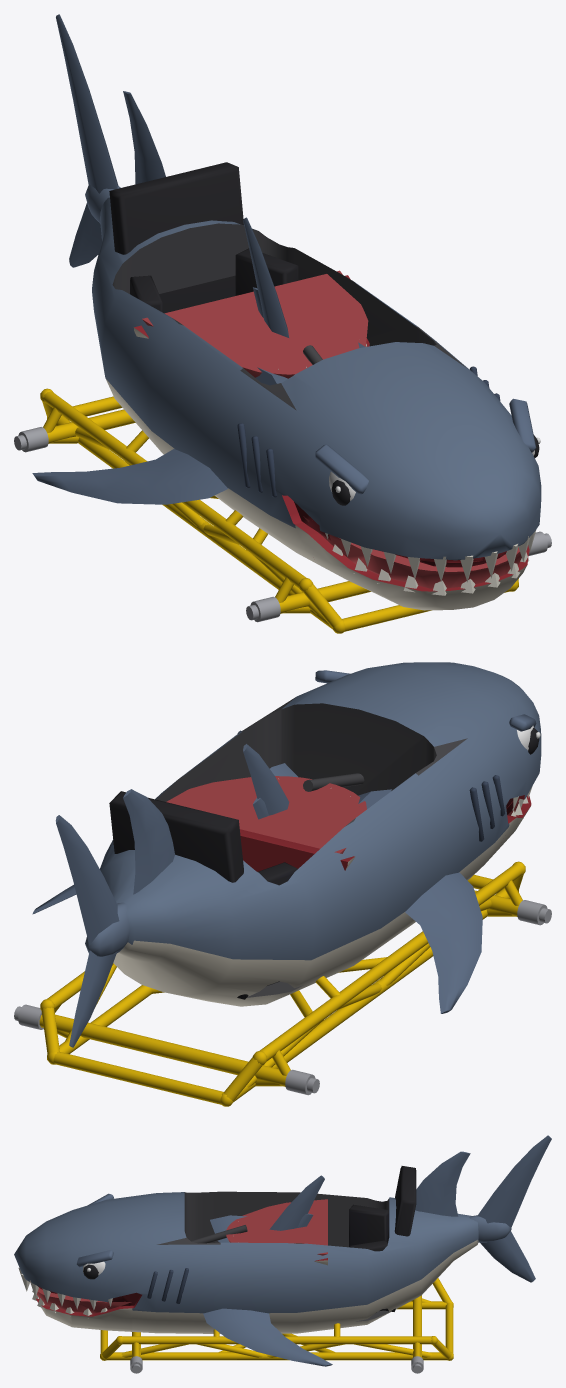
The model's file is sharkkart.glb.
The picture shows the model from 3 angles, top to bottom: view 1: azimuth 30°, elevation 25°; view 2: azimuth 150°, elevation 25°; view 3: azimuth 270°, elevation 25°; orthographic projection. The views are drawn at different scales.
Parts seen in each view (by area): view 1: sharkkart, sharkkart_jaw_loose, sharkkart_wreck, sharkkart_jaw, sharkkart_fin_r, sharkkart_tail, sharkkart_tail_loose, sharkkart_dorsal; view 2: sharkkart, sharkkart_wreck, sharkkart_jaw_loose, sharkkart_tail, sharkkart_fin_r, sharkkart_dorsal, sharkkart_tail_loose, sharkkart_jaw; view 3: sharkkart, sharkkart_wreck, sharkkart_tail, sharkkart_fin_l, sharkkart_jaw_loose, sharkkart_jaw, sharkkart_dorsal, sharkkart_tail_loose, sharkkart_fin_l_loose.
Boxes of the visible parts, x1=… form: sharkkart: x1=14, y1=162, x2=551, y2=632; sharkkart_jaw_loose: x1=133, y1=270, x2=369, y2=378; sharkkart_wreck: x1=14, y1=294, x2=550, y2=633; sharkkart_jaw: x1=295, y1=517, x2=529, y2=610; sharkkart_fin_r: x1=32, y1=449, x2=228, y2=504; sharkkart_tail: x1=56, y1=14, x2=120, y2=267; sharkkart_tail_loose: x1=243, y1=217, x2=289, y2=337; sharkkart_dorsal: x1=123, y1=91, x2=165, y2=184; sharkkart: x1=14, y1=662, x2=551, y2=1104; sharkkart_wreck: x1=15, y1=795, x2=551, y2=1106; sharkkart_jaw_loose: x1=166, y1=776, x2=366, y2=871; sharkkart_tail: x1=55, y1=815, x2=130, y2=1047; sharkkart_fin_r: x1=405, y1=872, x2=482, y2=1013; sharkkart_dorsal: x1=123, y1=789, x2=174, y2=894; sharkkart_tail_loose: x1=243, y1=744, x2=289, y2=815; sharkkart_jaw: x1=499, y1=795, x2=531, y2=848; sharkkart: x1=14, y1=1166, x2=478, y2=1373; sharkkart_wreck: x1=18, y1=1210, x2=453, y2=1367; sharkkart_tail: x1=469, y1=1135, x2=551, y2=1282; sharkkart_fin_l: x1=203, y1=1308, x2=332, y2=1366; sharkkart_jaw_loose: x1=226, y1=1199, x2=327, y2=1265; sharkkart_jaw: x1=32, y1=1288, x2=132, y2=1331; sharkkart_dorsal: x1=415, y1=1151, x2=470, y2=1216; sharkkart_tail_loose: x1=269, y1=1175, x2=324, y2=1230; sharkkart_fin_l_loose: x1=210, y1=1215, x2=246, y2=1242.
Size of the model in its own units: 1.44 by 1.1 by 2.68.
